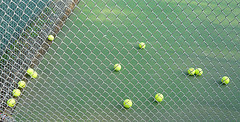tennis ball: (6, 96, 16, 108), (153, 92, 163, 102), (122, 98, 132, 108), (220, 75, 229, 85), (137, 41, 146, 51), (16, 80, 26, 89), (11, 88, 21, 97), (46, 33, 55, 41), (29, 71, 38, 79), (113, 63, 121, 71), (25, 66, 33, 74), (187, 66, 194, 75), (195, 67, 202, 75)
